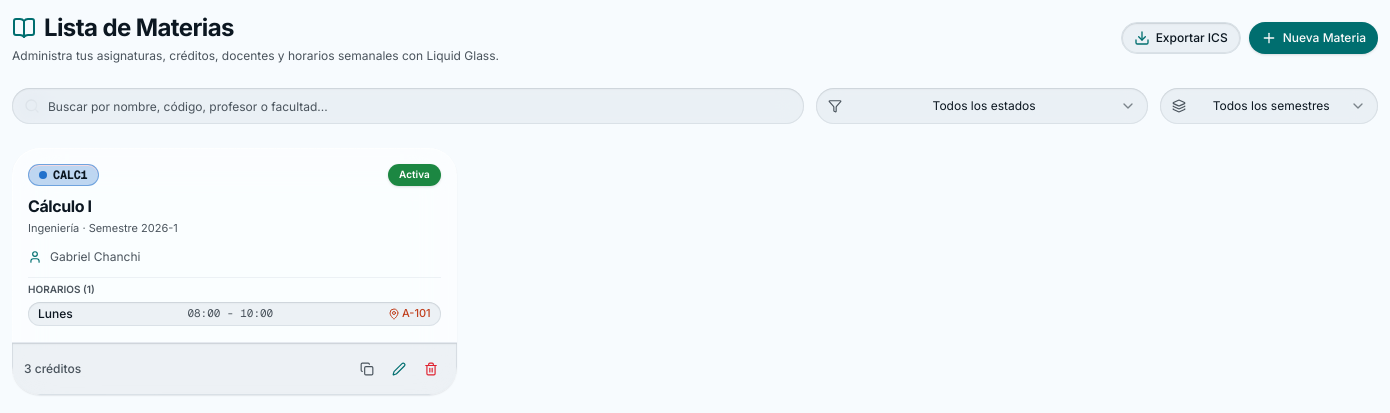
Test: CoursesView › duplicates a course via the server action and lists the copy
This screenshot has width=1390, height=413.
Click the button titled "Duplicar materia": x=367, y=368 [353, 354, 381, 382]
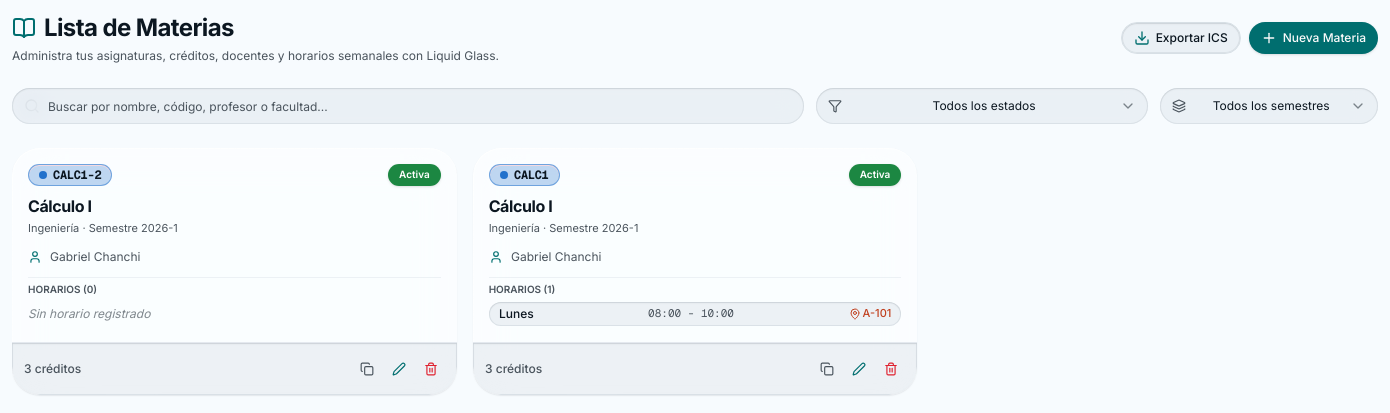
expect the text "CALC1-2" is shown: met, box [53, 167, 101, 183]
